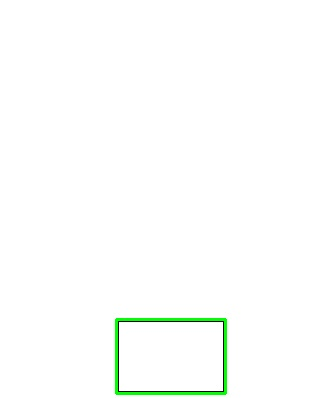line_segment: (115, 318, 226, 395)
